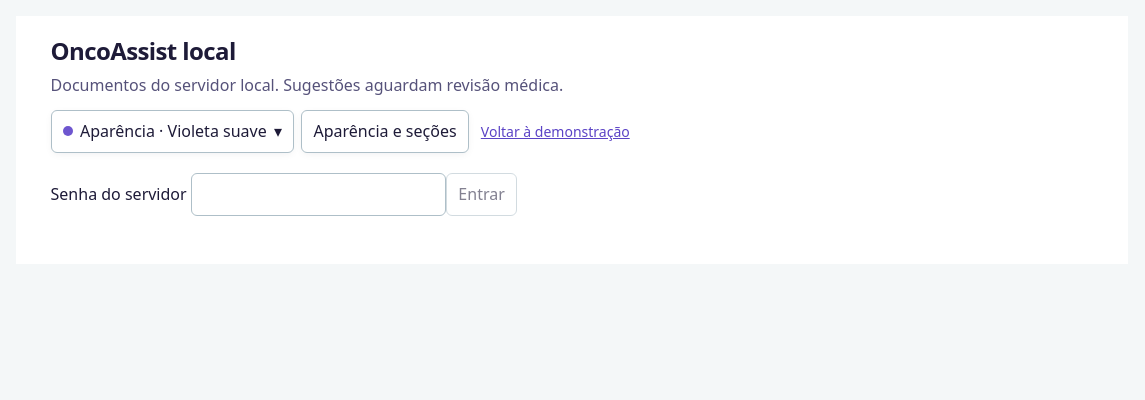
modo local explícito OncoAssist › expiração descarta consulta em andamento e limpa seleção
In the password field labelled "Senha do servidor": {"x": 318, "y": 194} [191,173,446,216], type "senha-sintetica-para-teste"
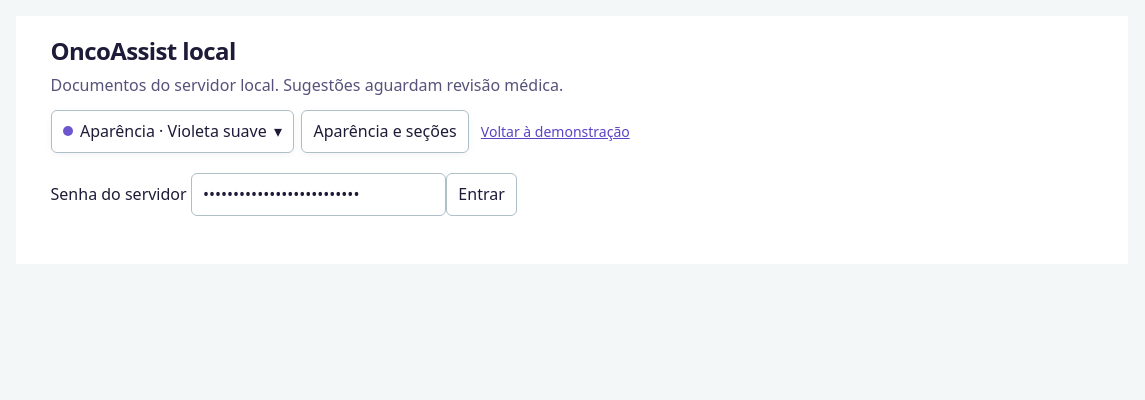
Click the button "Entrar": {"x": 482, "y": 194} [446,173,517,216]
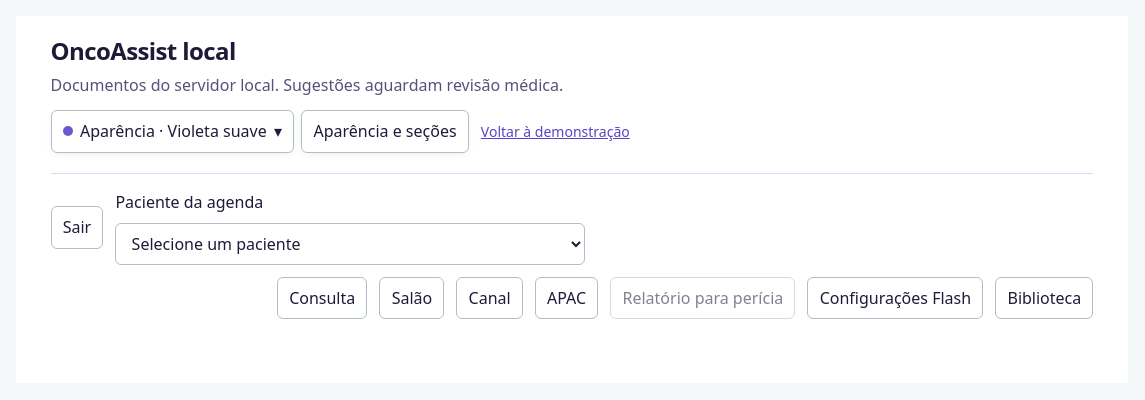
Select "08:00 — Pessoa sintética da agenda" in the dropdown labelled "Paciente da agenda": {"x": 350, "y": 244} [115,223,585,265]
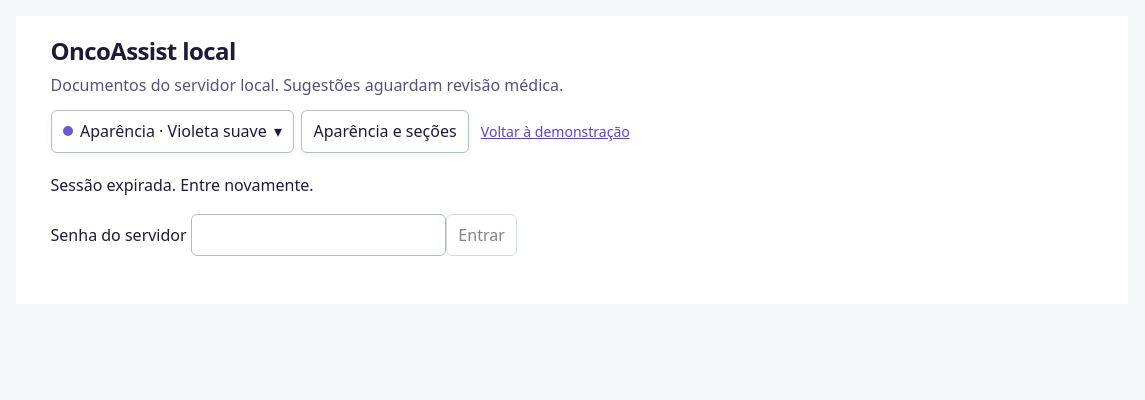
Expected: the text "Sessão expirada. Entre novamente." is shown, [50,174,314,196]
Expected: the button "Entrar" is shown, [446,214,517,256]
Expected: the label labelled "Paciente da agenda" is gone
